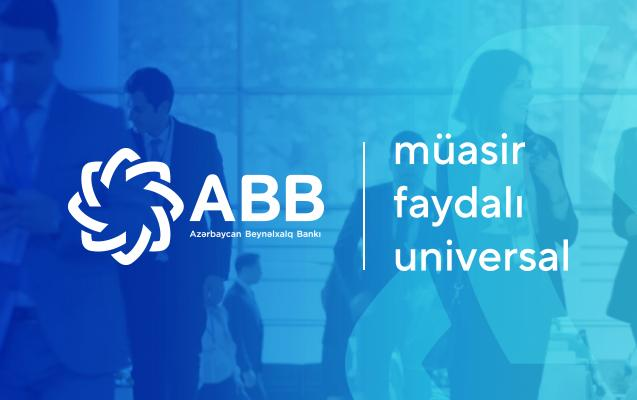ABB: (64, 145, 185, 268)
